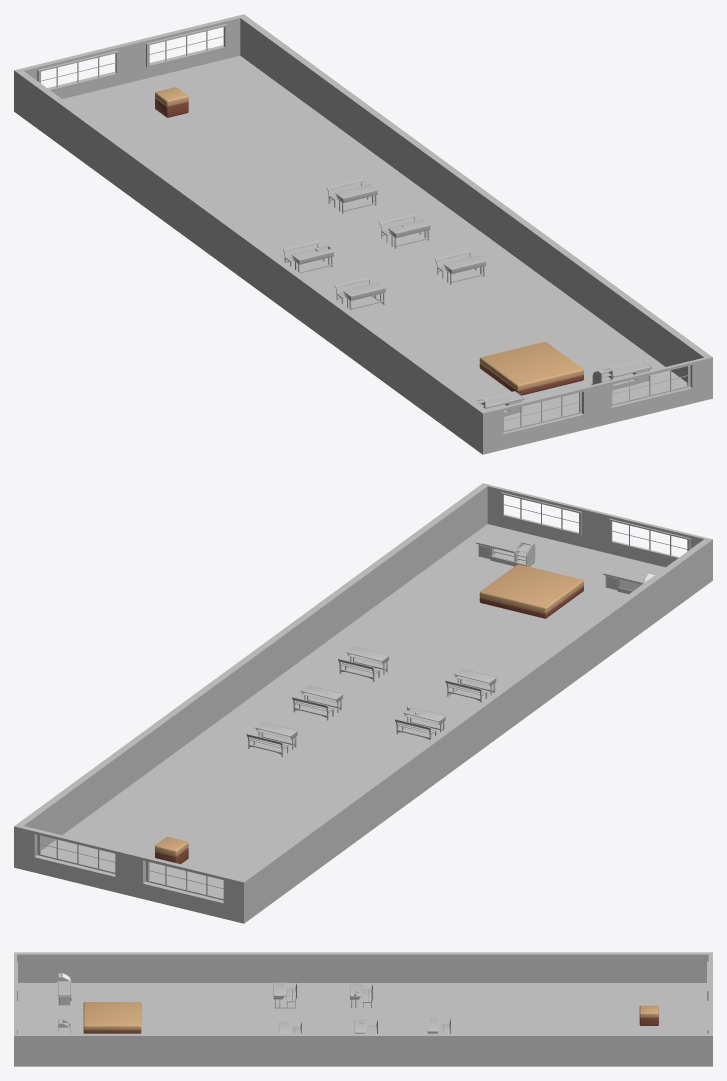
The model's file is floors.gltf.
3 renders of one model, top to bottom at view 1: azimuth 30°, elevation 25°; view 2: azimuth 150°, elevation 25°; view 3: azimuth 270°, elevation 25°, orthographic. The views are drawn at different scales.
Parts seen in each view (by area): view 1: Plane.001, Plane.002, tileLarge_desert, Cube.001, Cube.004, Cube.045, Cube.007, Cube.003, Cube.006, tileMedium_desert; view 2: Plane.001, Plane.002, tileLarge_desert, Cube.001, Cube.045, Cube.007, Cube.004, Cube.003, Cube.006, tileMedium_desert, Cube.005; view 3: Plane.001, Plane.002, tileLarge_desert, Cube.045, Cube.005, tileMedium_desert, Cube.006, Cube.007, Cube.004, Cube.003.
Part boxes in pixels (x1=…): Plane.001: x1=14, y1=14, x2=524, y2=316; Plane.002: x1=295, y1=220, x2=712, y2=454; tileLarge_desert: x1=479, y1=342, x2=583, y2=395; Cube.001: x1=591, y1=360, x2=651, y2=390; Cube.004: x1=379, y1=213, x2=430, y2=248; Cube.045: x1=334, y1=276, x2=385, y2=310; Cube.007: x1=326, y1=178, x2=378, y2=213; Cube.003: x1=435, y1=249, x2=486, y2=284; Cube.006: x1=283, y1=240, x2=334, y2=273; tileMedium_desert: x1=155, y1=87, x2=188, y2=117; Plane.001: x1=14, y1=620, x2=525, y2=923; Plane.002: x1=295, y1=483, x2=712, y2=717; tileLarge_desert: x1=479, y1=564, x2=583, y2=618; Cube.001: x1=476, y1=535, x2=535, y2=566; Cube.045: x1=445, y1=668, x2=496, y2=702; Cube.007: x1=246, y1=721, x2=297, y2=757; Cube.004: x1=292, y1=685, x2=343, y2=720; Cube.003: x1=338, y1=646, x2=389, y2=681; Cube.006: x1=394, y1=707, x2=446, y2=739; tileMedium_desert: x1=155, y1=837, x2=188, y2=864; Cube.005: x1=603, y1=566, x2=657, y2=594; Plane.001: x1=293, y1=952, x2=712, y2=1066; Plane.002: x1=14, y1=952, x2=293, y2=1066; tileLarge_desert: x1=83, y1=1002, x2=141, y2=1033; Cube.045: x1=273, y1=982, x2=297, y2=1008; Cube.005: x1=57, y1=973, x2=71, y2=1005; tileMedium_desert: x1=639, y1=1005, x2=658, y2=1025; Cube.006: x1=349, y1=983, x2=373, y2=1007; Cube.007: x1=427, y1=1018, x2=451, y2=1033; Cube.004: x1=354, y1=1019, x2=378, y2=1033; Cube.003: x1=278, y1=1021, x2=302, y2=1033.
Bounding box in the file's own units: 20.66 × 3.54 × 72.91.
